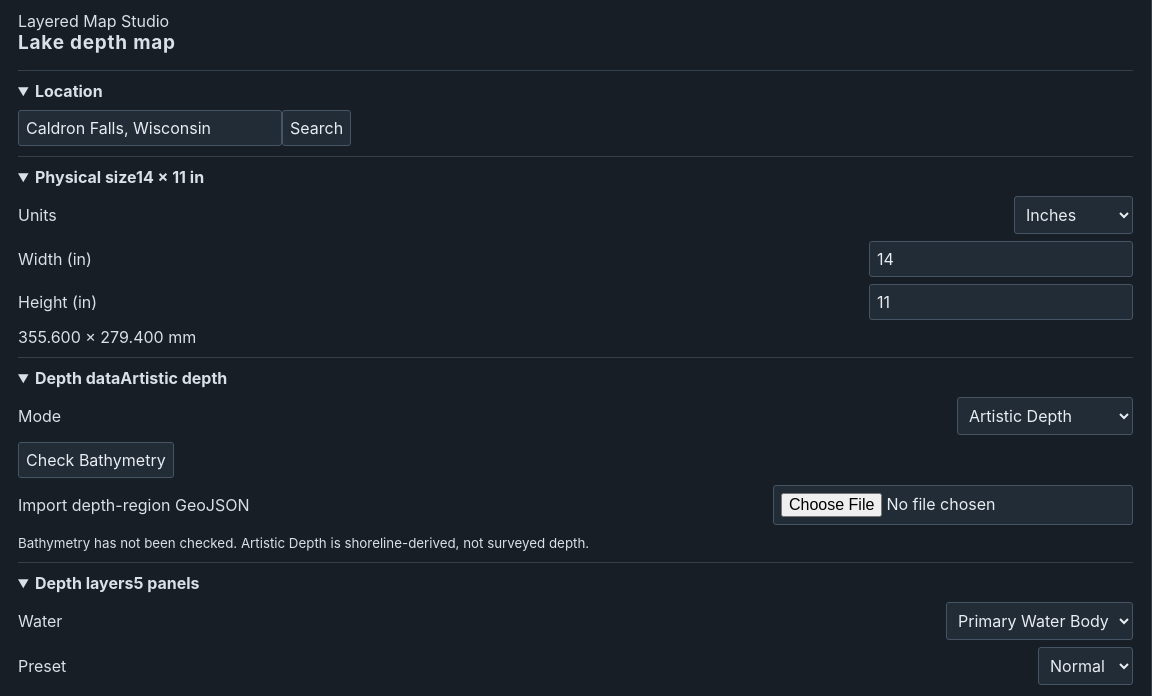
Procedural Terrain controls › is offered alongside the existing modes, and its controls appear only when it is selected
The width and height of the screenshot is (1152, 696).
Select "Procedural Terrain" in the dropdown labelled "Mode": (1045,416) [957,397,1133,435]
(page scrolled)
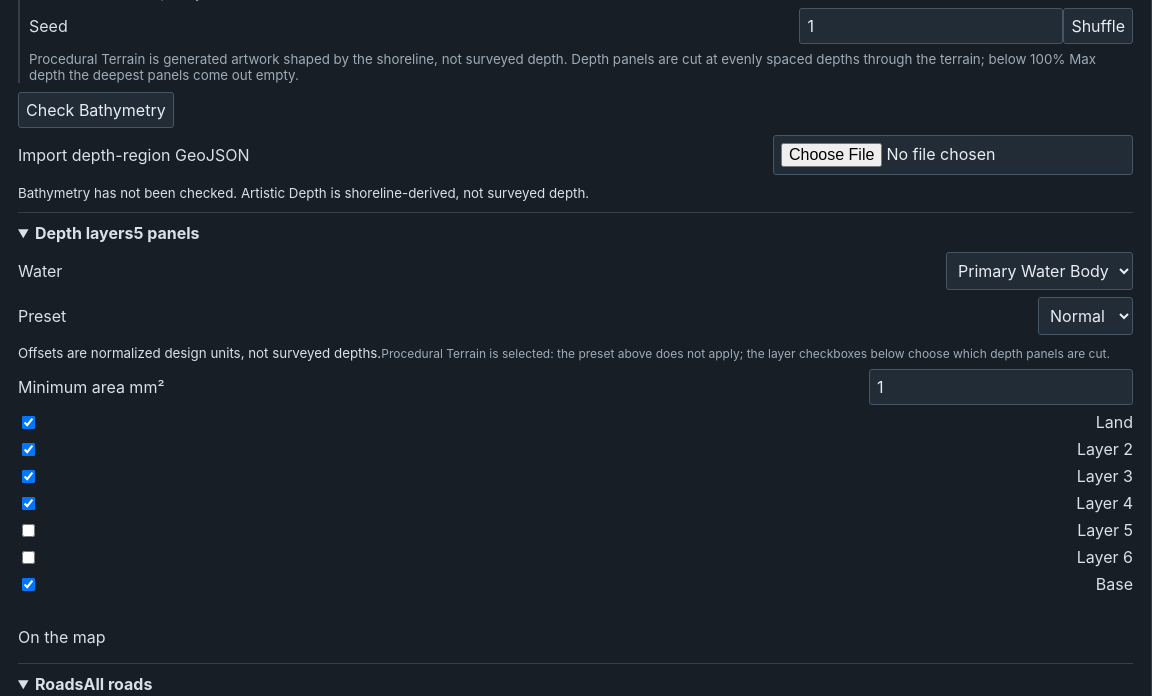
Now the number field labelled "Seed" is shown, box [799,8,1063,44]
Now the button "Shuffle" is shown, box [1063,8,1133,44]
Now the text "the preset above does not apply" is shown, box [381,346,1110,361]
